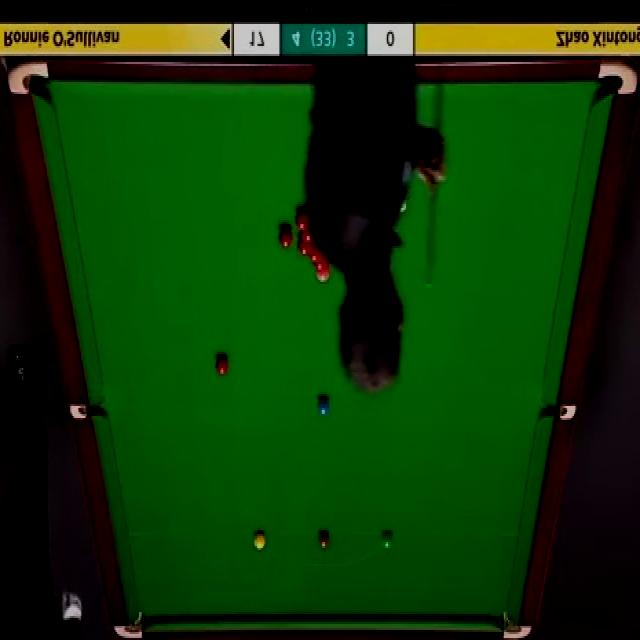pocket: (597, 60, 637, 98), (7, 61, 50, 94), (109, 606, 145, 640), (498, 608, 533, 640), (537, 405, 576, 420), (67, 405, 105, 420)
